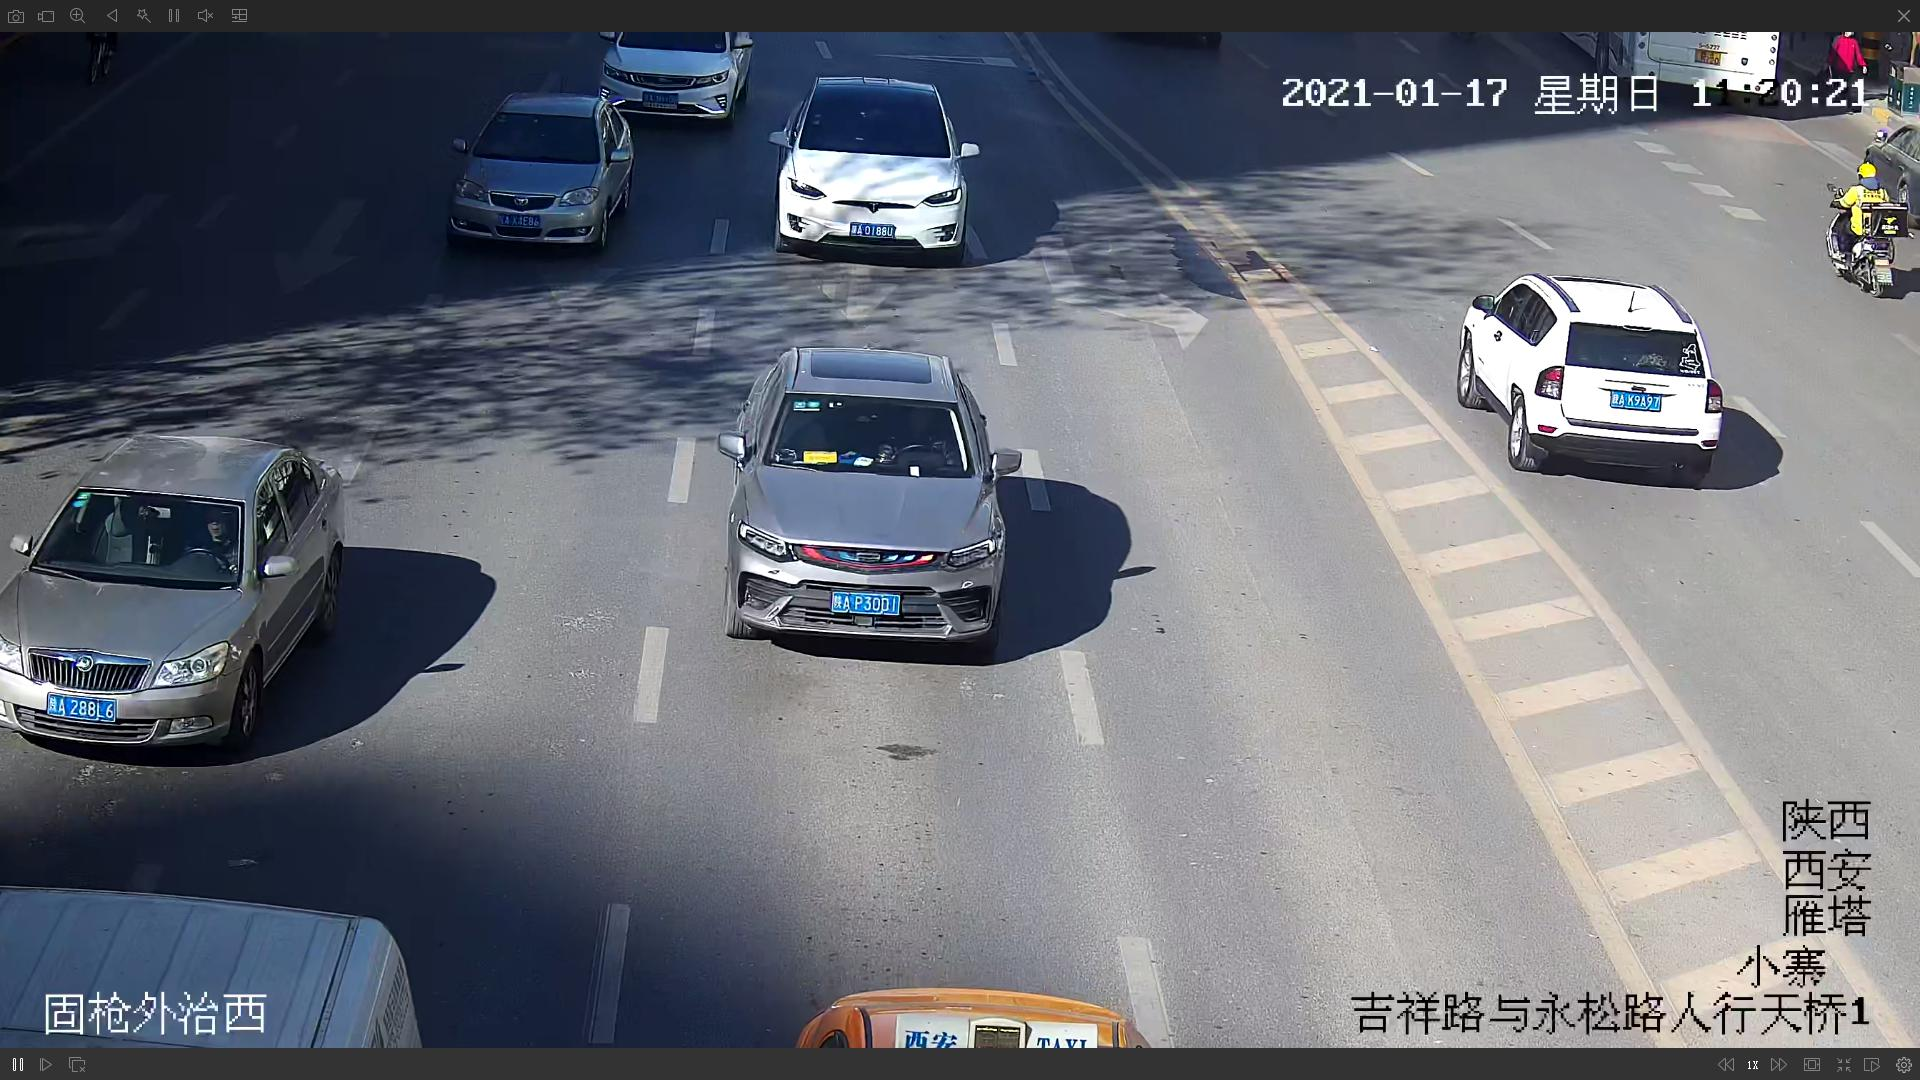champagne: (1, 434, 340, 760)
gray: (713, 342, 1021, 651)
silver-gray: (447, 95, 628, 252)
white: (766, 80, 975, 266)
